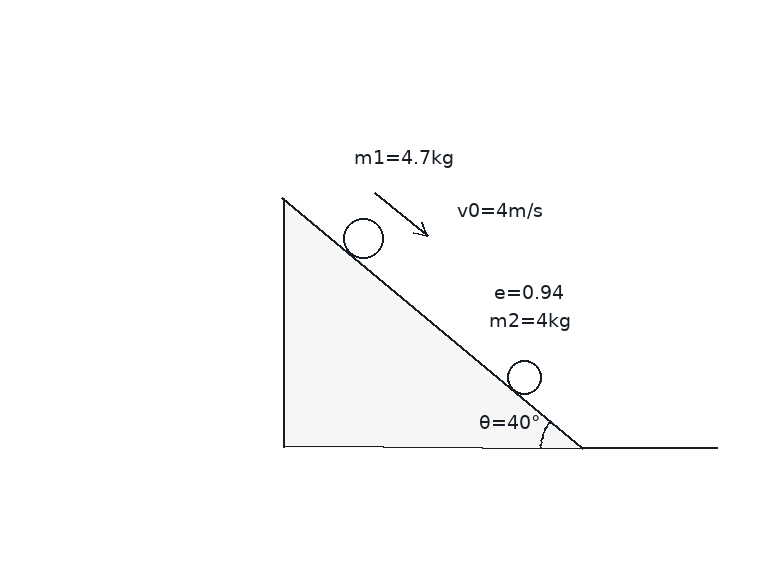ball: (340, 216, 384, 260), (505, 358, 543, 396)
ramp: (281, 195, 583, 449)
